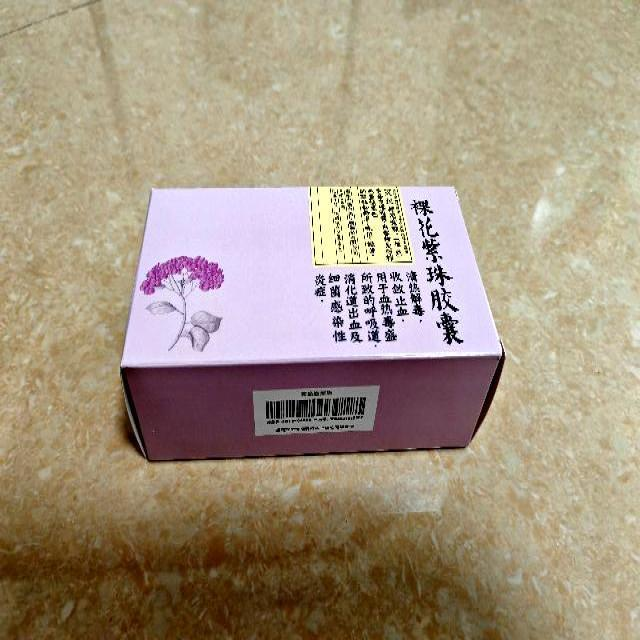box: (118, 182, 504, 461)
